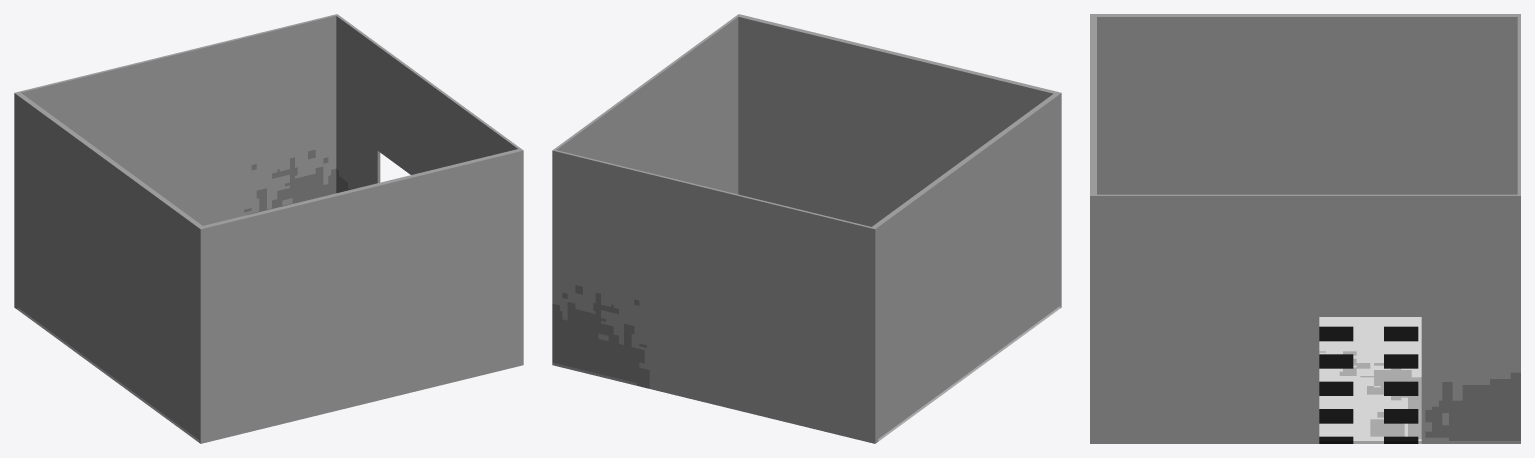
File: 4x2 third (1)-1.obj
3 renders of one model, left to right at view 1: azimuth 30°, elevation 25°; view 2: azimuth 150°, elevation 25°; view 3: azimuth 270°, elevation 25°, orthographic. The views are drawn at different scales.
Parts seen in each view (by area): view 1: 4x2 third (1)-1; view 2: 4x2 third (1)-1; view 3: 4x2 third (1)-1.
Boxes of the visible parts, left/top/right/bottom form: 4x2 third (1)-1: left=14, top=14, right=523, bottom=443; 4x2 third (1)-1: left=552, top=14, right=1061, bottom=443; 4x2 third (1)-1: left=1090, top=14, right=1520, bottom=443.
Bounding box in the file's own units: 126 × 80 × 126.
1 material, 1 textured.
